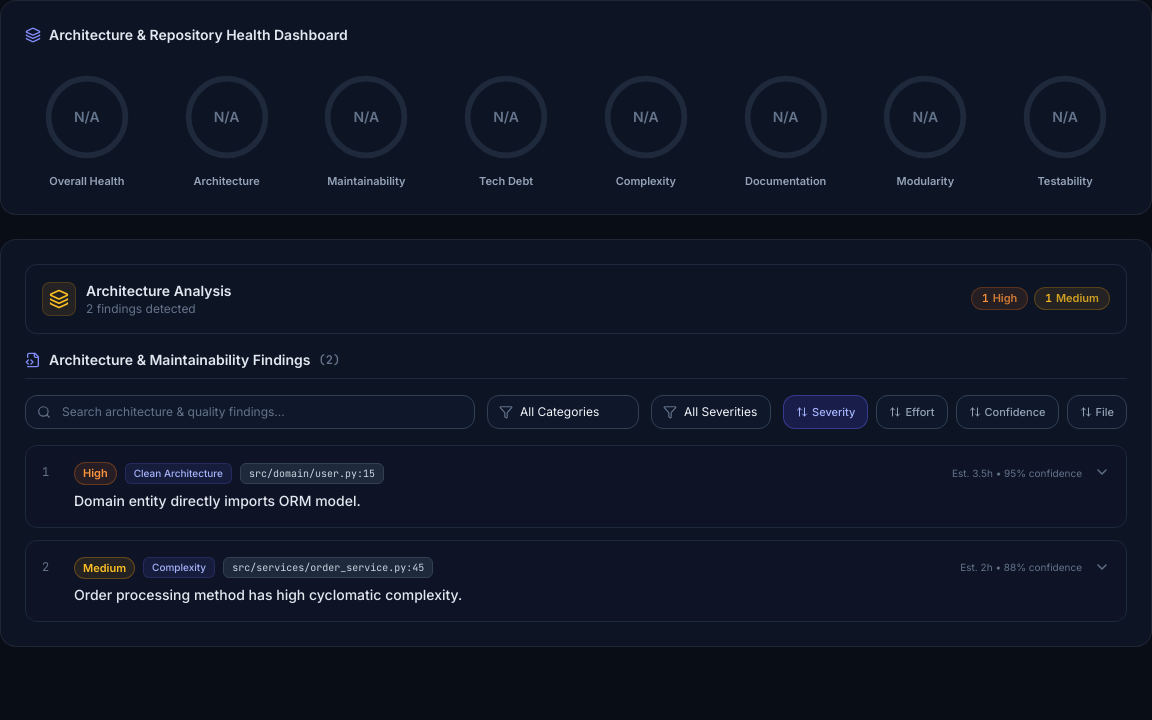
Test case: ArchitectureTab Component › expands finding card to show root cause, business impact, and recommendation
Click the button "Domain entity directly imports ORM model.": (95, 473) [26,446,1126,526]
(page scrolled)
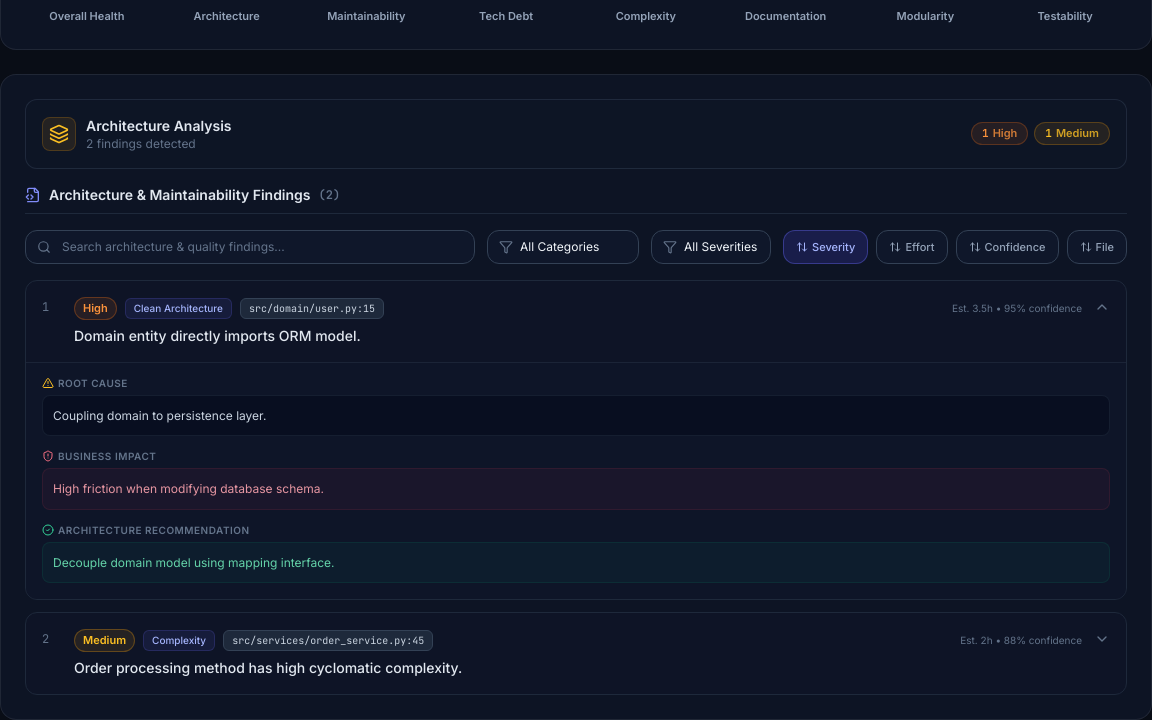
Expected: the text "Coupling domain to persistence layer." is shown, [42,394,1110,436]
Expected: the text "High friction when modifying database schema." is shown, [42,468,1110,510]
Expected: the text "Decouple domain model using mapping interface." is shown, [42,542,1110,583]
